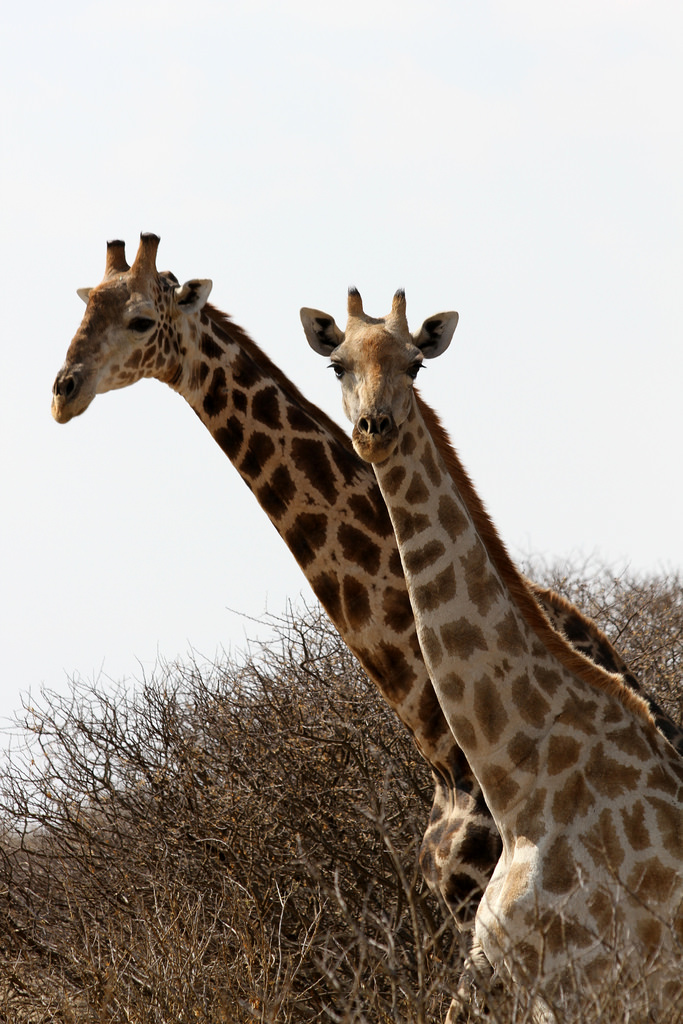giraffe: (305, 304, 671, 996), (57, 242, 370, 708)
